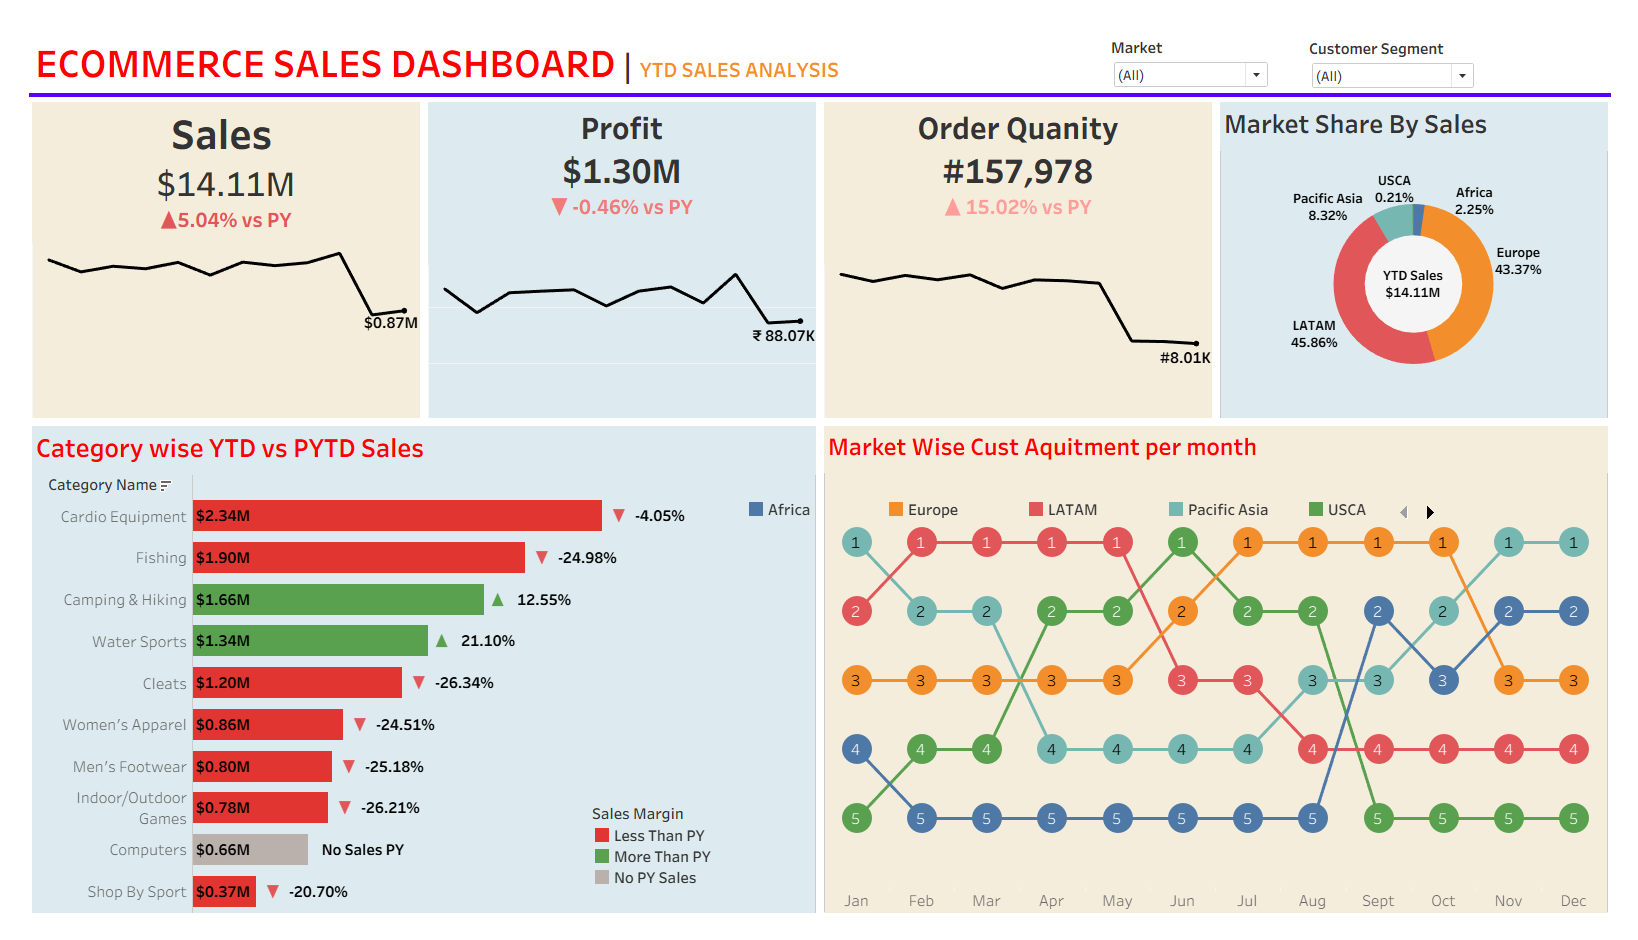

The page's visual inventory and layout, read from the dashboard file:
{"tool":"tableau","page":{"name":"Dashboard 1","canvas":[1000,1000],"units":"permille","ordinal":0},"visuals":[{"type":"title","box":[5,10,990,73.6]},{"type":"filter","title":"Market Wise Cust Aquitment per month","param":"[federated.0bl6art1w9z6yf11czgol0ccqg6d].[none:Market:nk]","box":[681.9,13.7,100,66.1]},{"type":"filter","title":"Market Wise Cust Aquitment per month","param":"[federated.0bl6art1w9z6yf11czgol0ccqg6d].[none:Customer Segment:nk]","box":[805.6,15,105,61.1]},{"type":"blank","box":[5,83.5,990,7.5]},{"type":"worksheet","title":"Sales KPI","mark":"Automatic","rows":["Sales"],"cols":["Order Date"],"box":[5,91,247.5,350.4]},{"type":"worksheet","title":"Profit KPI","mark":"Automatic","rows":["Profit Per Order"],"cols":["Order Date"],"box":[252.5,91,247.5,350.4]},{"type":"worksheet","title":"Order Quantity KPI","mark":"Automatic","rows":["Order Quantity"],"cols":["Order Date"],"box":[500,91,247.5,350.4]},{"type":"worksheet","title":"Market Share By Sales","mark":"Pie","cols":["Calculation_0380718812450830","Calculation_0380718812471312"],"box":[747.5,91,247.5,350.4]},{"type":"worksheet","title":"Category wise YTD vs PYTD Sales","mark":"Bar","rows":["Category Name"],"cols":["YTD Sales LOD (copy)_0380718813536273","YTD Sales LOD (copy)_0380718813536273"],"box":[5,441.4,495,548.6]},{"type":"worksheet","title":"Market Wise Cust Aquitment per month","mark":"Automatic","cols":["Order Date"],"box":[500,441.4,495,548.6]},{"type":"legend","title":"Market Wise Cust Aquitment per month","param":"[federated.0bl6art1w9z6yf11czgol0ccqg6d].[none:Market:nk]","box":[453.8,526.2,437.5,29.9]},{"type":"legend","title":"Category wise YTD vs PYTD Sales","param":"[federated.0bl6art1w9z6yf11czgol0ccqg6d].[usr:Calculation_0665767241072642:nk]","box":[357.5,864.1,87.5,106]}]}

Visuals, with their boxes on the dashboard's canvas, which has no fixed pixel size, in thousandths of its width and height (x1, y1, x2, y2). These are canvas units, not pixel positions in the 1638x940 screenshot, which may show the page scaled, cropped or inside an application window:
title: 5,10,995,84
"Market Wise Cust Aquitment per month" filter: 682,14,782,80
"Market Wise Cust Aquitment per month" filter: 806,15,911,76
blank: 5,84,995,91
"Sales KPI" worksheet: 5,91,252,441
"Profit KPI" worksheet: 252,91,500,441
"Order Quantity KPI" worksheet: 500,91,748,441
"Market Share By Sales" worksheet (Pie marks): 748,91,995,441
"Category wise YTD vs PYTD Sales" worksheet (Bar marks): 5,441,500,990
"Market Wise Cust Aquitment per month" worksheet: 500,441,995,990
"Market Wise Cust Aquitment per month" legend: 454,526,891,556
"Category wise YTD vs PYTD Sales" legend: 358,864,445,970
